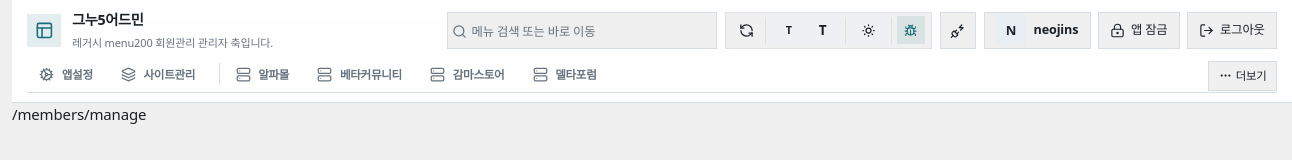
Test case: AppShellHeader › moves to the overview route when the brand is clicked
Click the button with aria-label "그누5어드민 첫 화면으로 이동" at coordinates (150, 30), box [27,9,273,51]
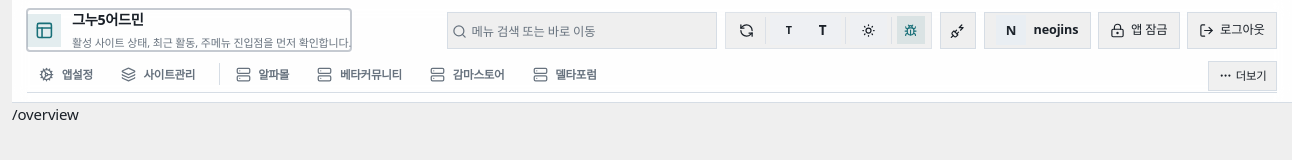
Expected: the text with test id "location" reads "/overview", [12,104,79,124]
